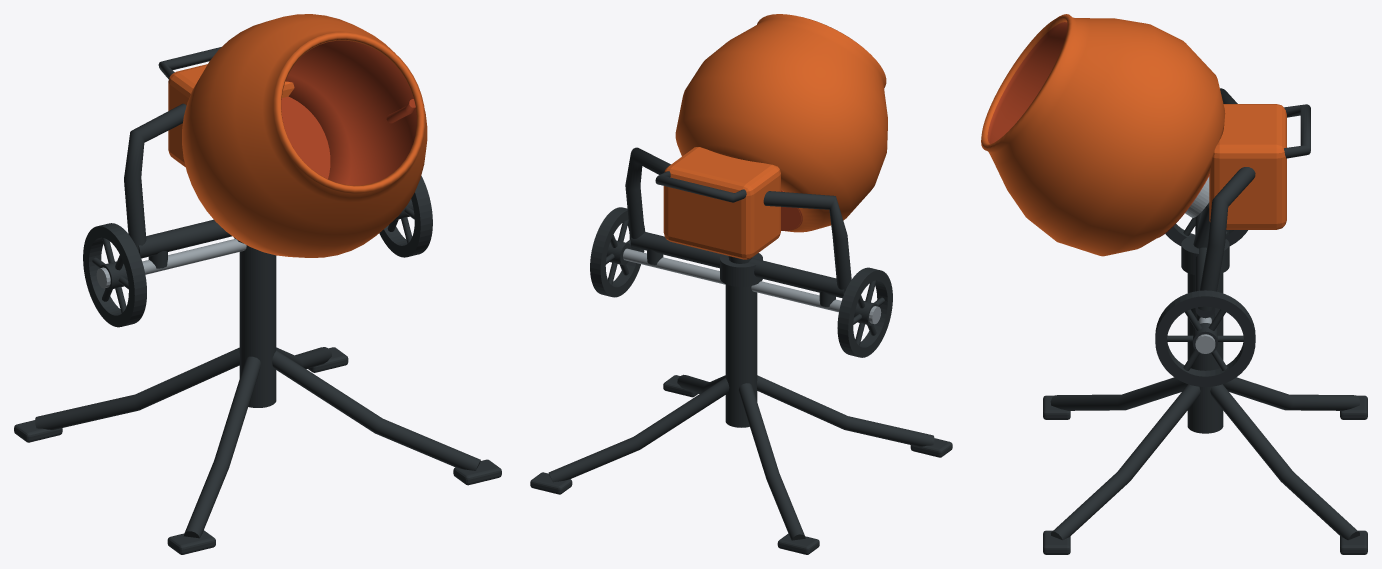
File: A-NEW-20261026-DRUM-CONCRETE-MIXER-001_LOD1_R2.glb
3 renders of one model, left to right at view 1: azimuth 30°, elevation 25°; view 2: azimuth 150°, elevation 25°; view 3: azimuth 270°, elevation 25°, orthographic. The views are drawn at different scales.
Visible parts, largest first — view 1: open drum continuous wall and rolled lip, stand central socket, splayed stand leg 3, open spoke wheel rim -1, splayed stand leg 1, splayed stand leg 2, side frame -1, closed rear drum disk, open spoke wheel rim 1, upper horizontal support, rear enclosed drive cover, wheel axle (+5 smaller); view 2: open drum continuous wall and rolled lip, rear enclosed drive cover, stand central socket, upper horizontal support, splayed stand leg 0, open spoke wheel rim -1, splayed stand leg 2, splayed stand leg 1, side frame -1, wheel axle, open spoke wheel rim 1, side frame 1 (+4 smaller); view 3: open drum continuous wall and rolled lip, rear enclosed drive cover, open spoke wheel rim 1, splayed stand leg 0, splayed stand leg 3, side frame 1, stand central socket, splayed stand leg 2, splayed stand leg 1, rear carrying handle, upper stand collar, upper horizontal support (+4 smaller).
Part boxes in pixels (bbox=[...]): open drum continuous wall and rolled lip: bbox=[182, 14, 427, 257]; stand central socket: bbox=[239, 245, 276, 407]; splayed stand leg 3: bbox=[272, 350, 480, 470]; open spoke wheel rim -1: bbox=[83, 223, 146, 327]; splayed stand leg 1: bbox=[35, 347, 239, 429]; splayed stand leg 2: bbox=[184, 356, 261, 538]; side frame -1: bbox=[124, 103, 186, 251]; closed rear drum disk: bbox=[281, 96, 330, 179]; open spoke wheel rim 1: bbox=[379, 176, 432, 257]; upper horizontal support: bbox=[138, 219, 231, 258]; rear enclosed drive cover: bbox=[168, 64, 294, 167]; wheel axle: bbox=[98, 239, 246, 284]; open drum continuous wall and rolled lip: bbox=[675, 14, 887, 232]; rear enclosed drive cover: bbox=[663, 147, 780, 259]; stand central socket: bbox=[725, 284, 757, 427]; upper horizontal support: bbox=[630, 232, 844, 298]; splayed stand leg 0: bbox=[548, 377, 729, 482]; open spoke wheel rim -1: bbox=[837, 267, 892, 357]; splayed stand leg 2: bbox=[757, 375, 934, 446]; splayed stand leg 1: bbox=[738, 383, 805, 540]; side frame -1: bbox=[763, 191, 851, 292]; wheel axle: bbox=[623, 248, 879, 320]; open spoke wheel rim 1: bbox=[590, 207, 645, 297]; side frame 1: bbox=[625, 147, 670, 239]; open drum continuous wall and rolled lip: bbox=[981, 14, 1225, 256]; rear enclosed drive cover: bbox=[1209, 104, 1286, 229]; open spoke wheel rim 1: bbox=[1155, 290, 1255, 386]; splayed stand leg 0: bbox=[1210, 384, 1359, 540]; splayed stand leg 3: bbox=[1050, 384, 1200, 540]; side frame 1: bbox=[1198, 167, 1255, 311]; stand central socket: bbox=[1187, 273, 1223, 433]; splayed stand leg 2: bbox=[1050, 377, 1187, 410]; splayed stand leg 1: bbox=[1223, 377, 1359, 410]; rear carrying handle: bbox=[1284, 104, 1310, 158]; upper stand collar: bbox=[1181, 235, 1229, 274]; upper horizontal support: bbox=[1195, 212, 1215, 318].
Bounding box in the file's own units: 0.97 × 1.36 × 1.04.
